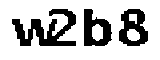2: (48, 7, 75, 49)
8: (116, 7, 152, 48)
b: (82, 6, 113, 48)
w: (10, 17, 55, 50)
